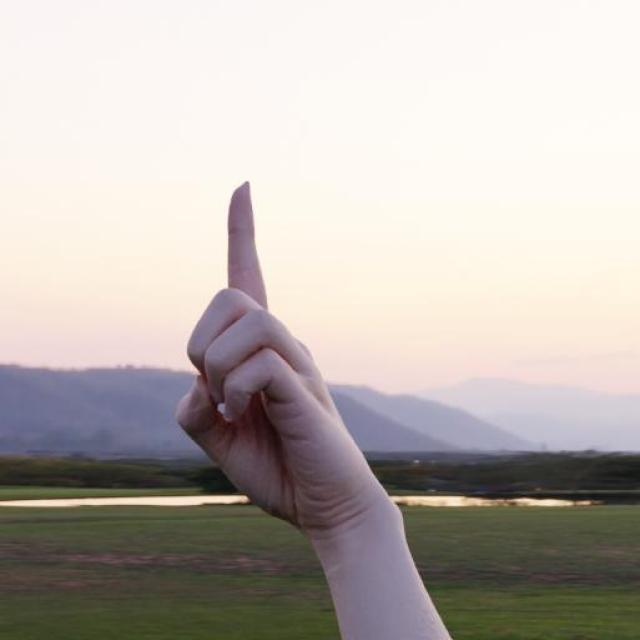D: (149, 164, 396, 564)
